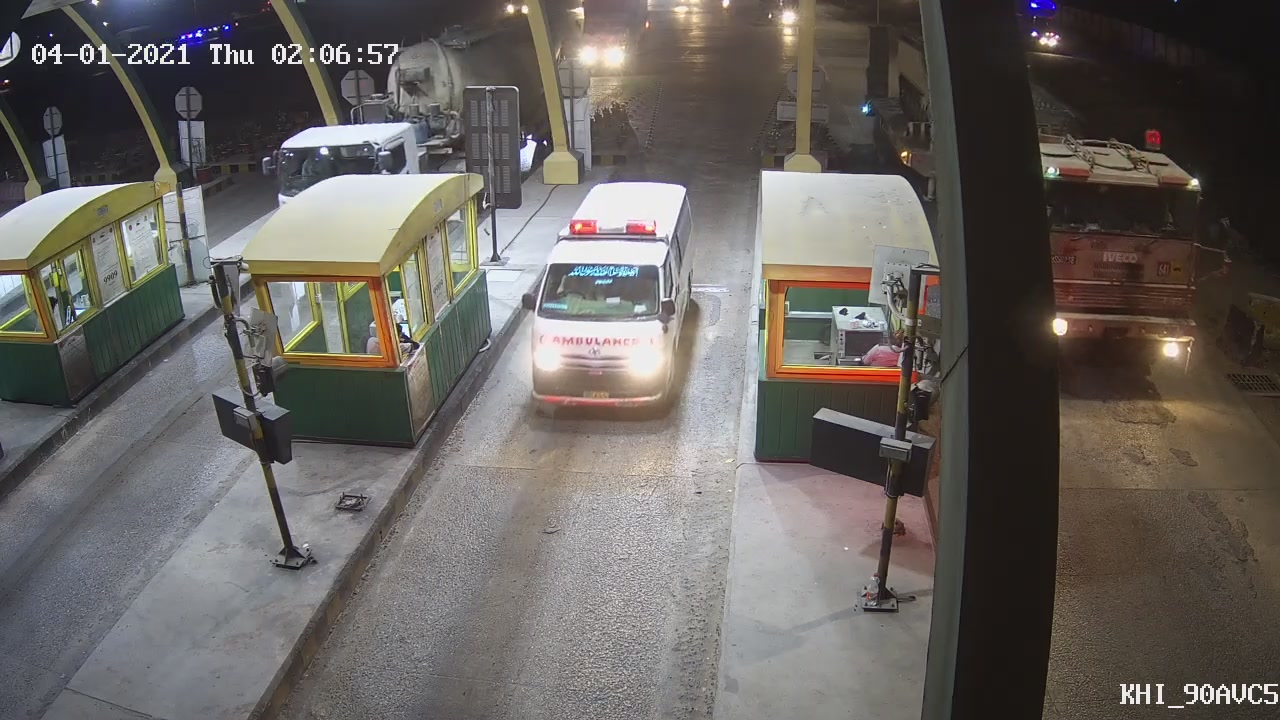F3: (526, 171, 697, 431)
